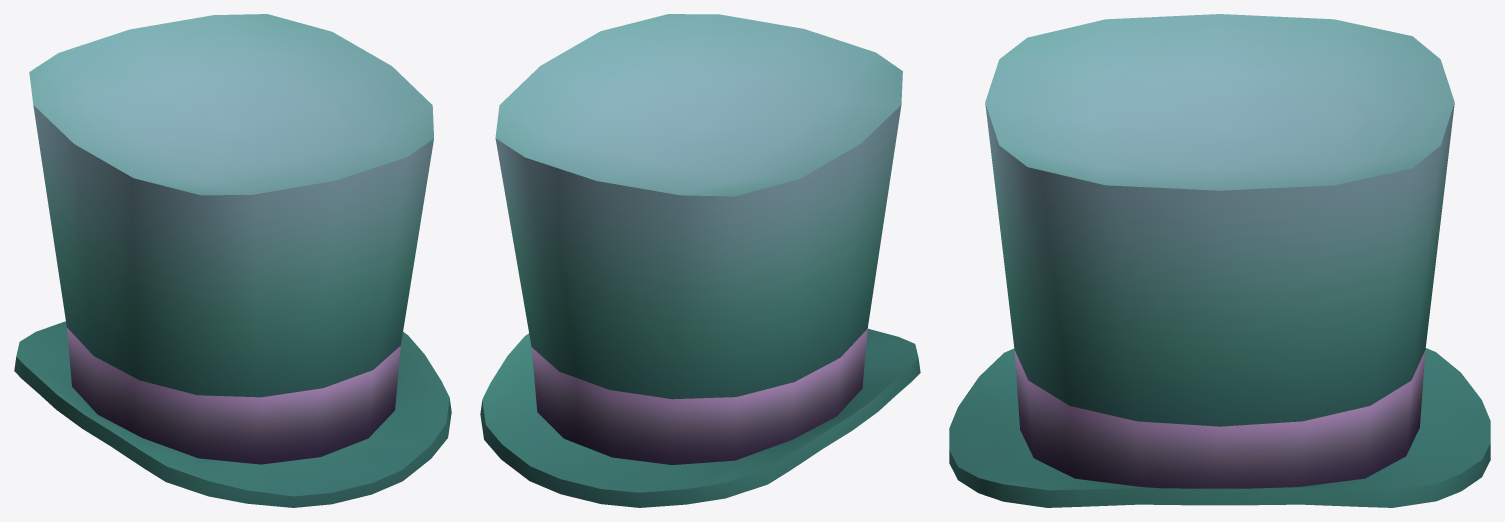
The model's file is SM_Tophat.fbx.
3 views of the same model, side by side, from view 1: azimuth 30°, elevation 25°; view 2: azimuth 150°, elevation 25°; view 3: azimuth 270°, elevation 25° (orthographic). The views are drawn at different scales.
Visible parts, largest first — view 1: SM_Tophat; view 2: SM_Tophat; view 3: SM_Tophat.
Part boxes in pixels (bbox=[...]): SM_Tophat: bbox=[14, 14, 451, 507]; SM_Tophat: bbox=[480, 14, 920, 507]; SM_Tophat: bbox=[949, 14, 1490, 507].
Size of the model in its own units: 40.32 by 36.12 by 50.67.
